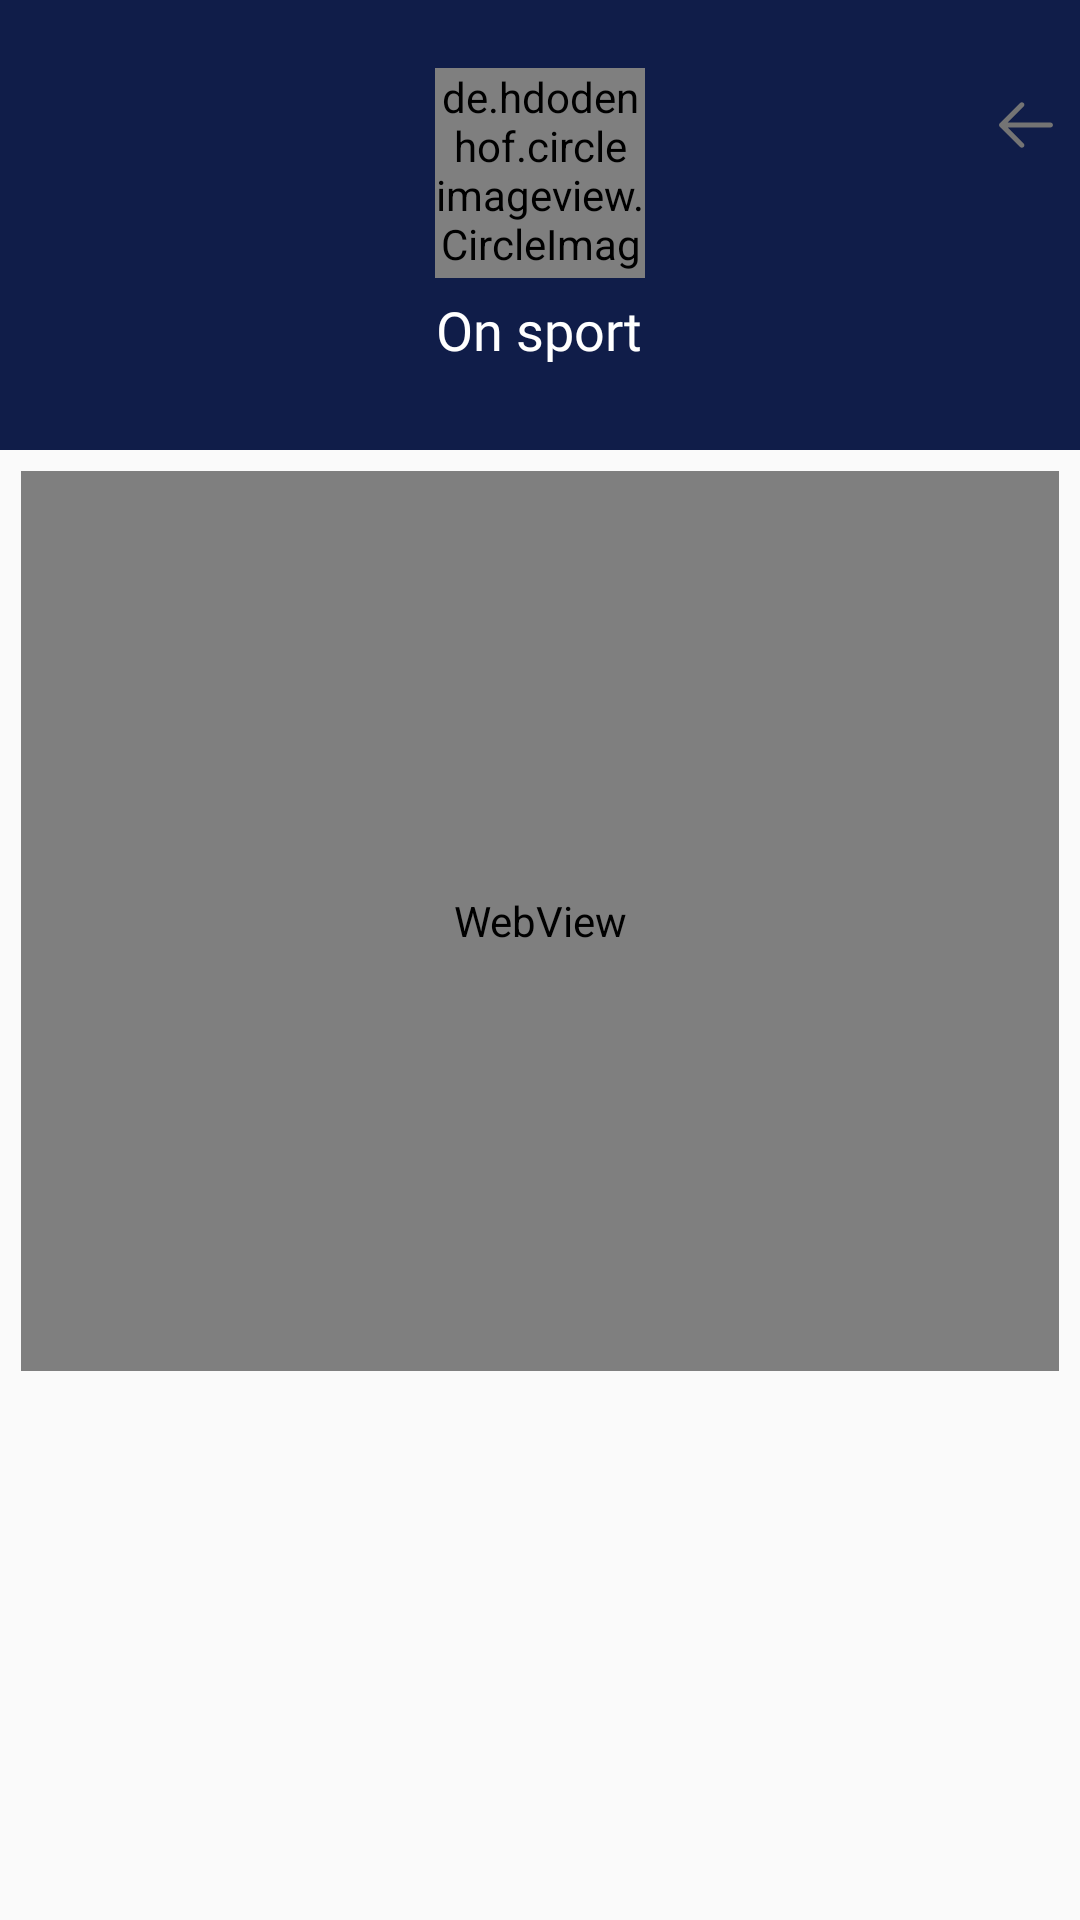

Screen size 1080 x 1920. Icon name, then its center in pixels as [x,y]:
back ion: [1026,125]
